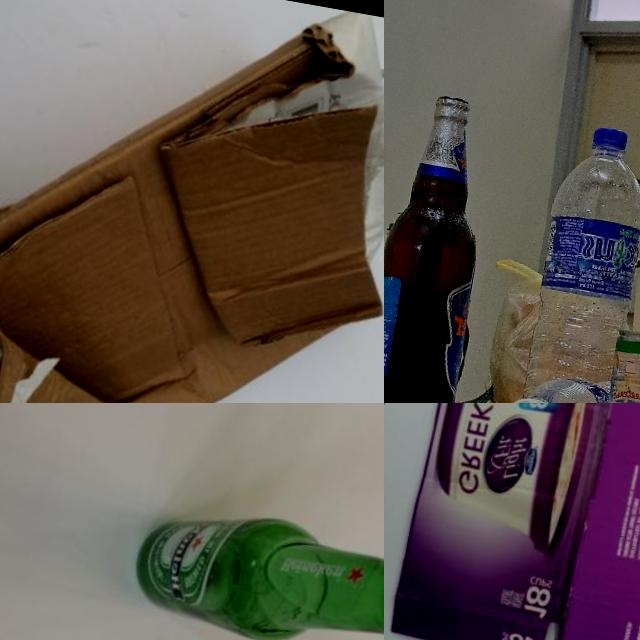garrafa de vidro: (122, 491, 384, 640), (384, 87, 505, 403)
garrafa plástica: (517, 118, 640, 403), (496, 363, 608, 403)
papelão: (0, 0, 384, 403), (386, 403, 640, 640)
tampa plástica: (588, 127, 628, 159), (501, 389, 557, 403)
